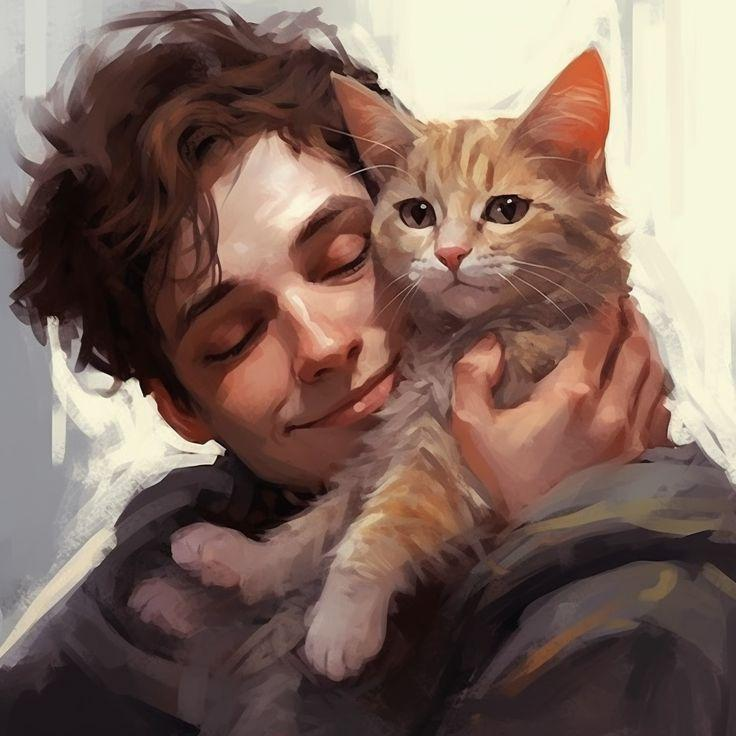kedo: (169, 44, 631, 681)
